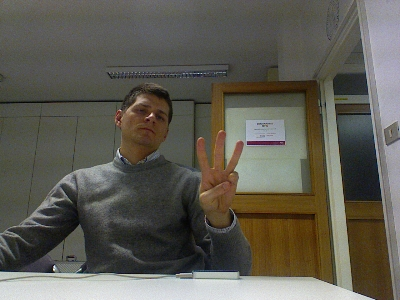三分: (194, 128, 244, 213)
